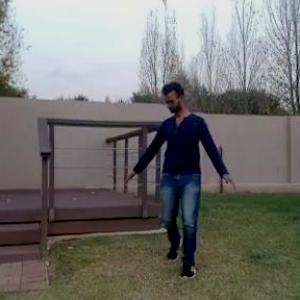land: (128, 74, 229, 284)
